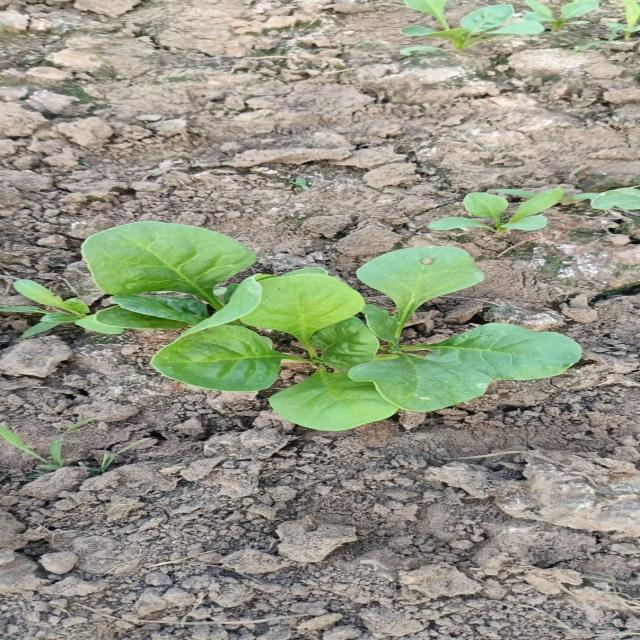plant: (81, 221, 578, 430), (365, 248, 480, 309)
